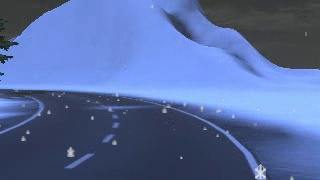Lane: (0, 88, 264, 179)
